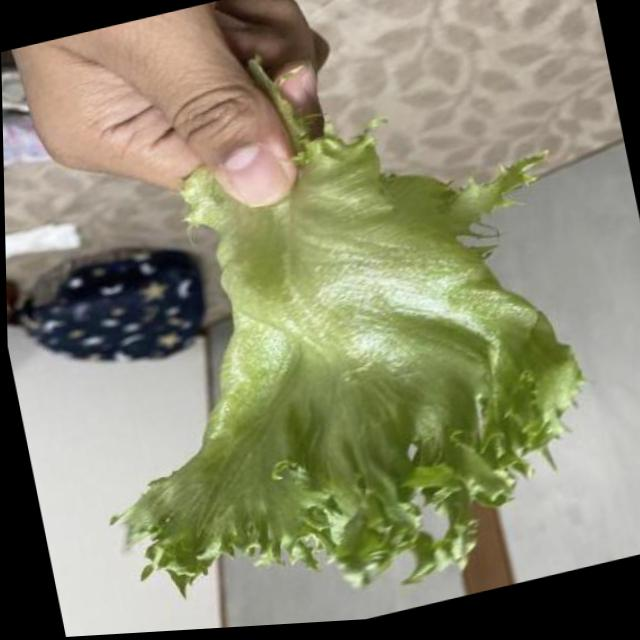Mature: (112, 67, 584, 594)
